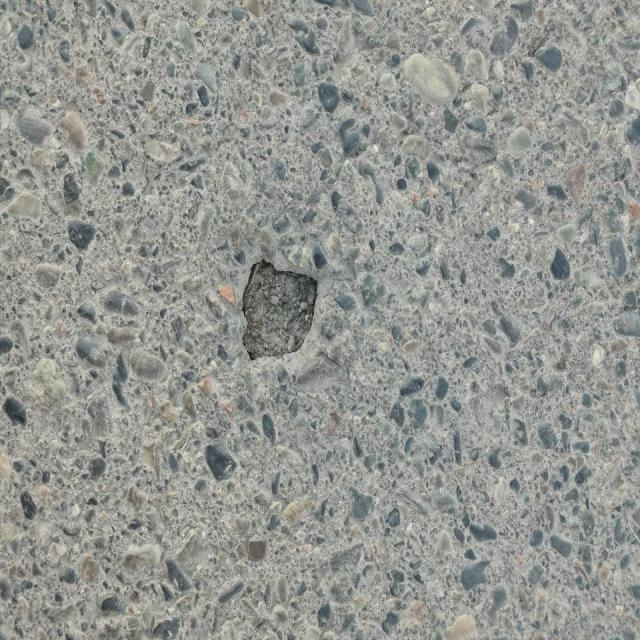Pothole: (241, 257, 319, 362)
